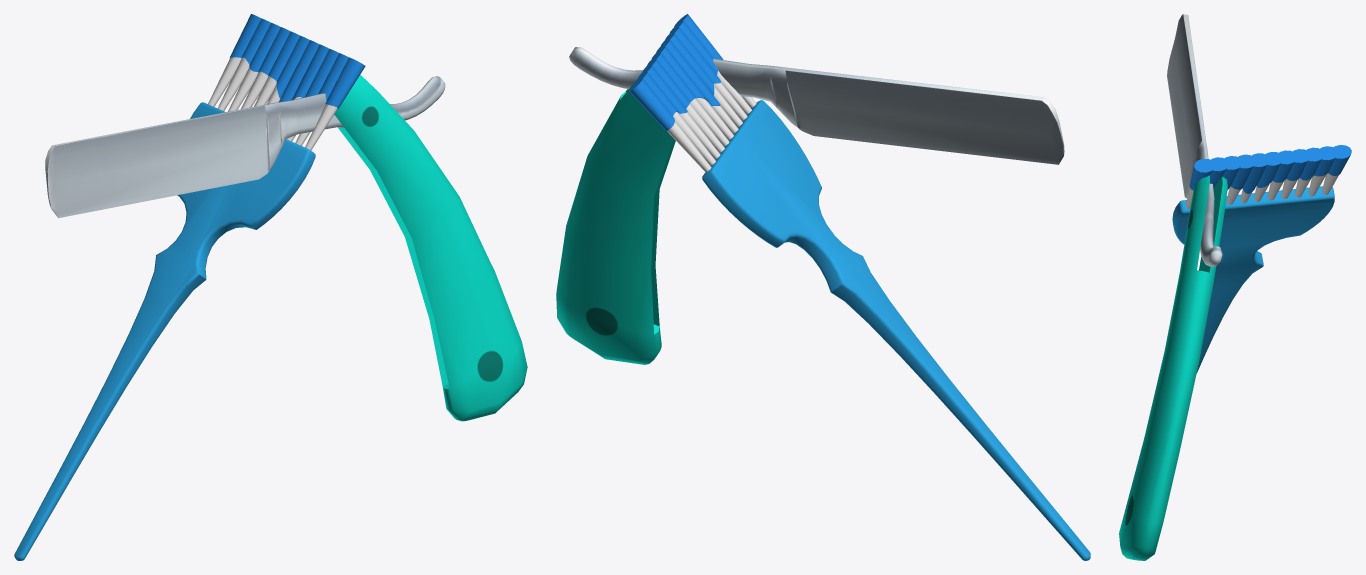
Rendered from britva-i-kict2.glb.
The picture shows the model from 3 angles, left to right: view 1: azimuth 30°, elevation 25°; view 2: azimuth 150°, elevation 25°; view 3: azimuth 270°, elevation 25°; orthographic projection. The views are drawn at different scales.
Visible parts, largest first — view 1: blade, ruchka.002, kraska, kist.001; view 2: blade, ruchka.002, kraska, kist.001; view 3: blade, ruchka.002, kraska, kist.001.
Boxes of the visible parts, x1,y1,x2,y2 form: blade: (45,74,527,421); ruchka.002: (14,102,315,560); kraska: (229,14,365,109); kist.001: (208,57,337,150); blade: (556,47,1064,364); ruchka.002: (702,100,1090,560); kraska: (629,14,723,130); kist.001: (667,71,756,172); blade: (1119,14,1227,560); ruchka.002: (1172,186,1334,373); kraska: (1189,145,1351,193); kist.001: (1185,173,1338,208).
Size of the model in its own units: 0.0455 by 0.0361 by 0.0188.
4 materials, 1 textured.
